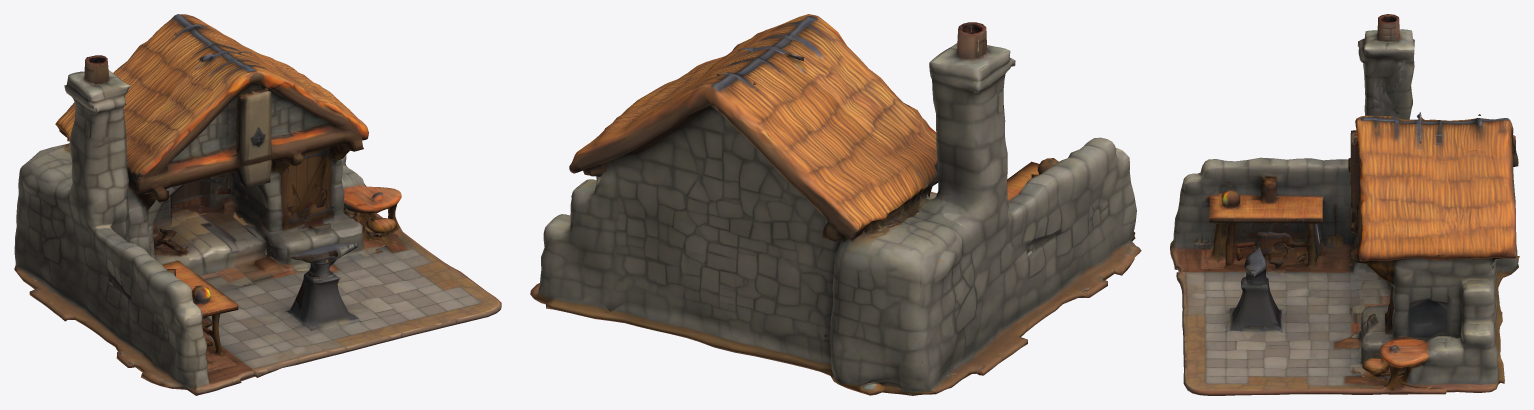
The model's file is forge.glb.
The picture shows the model from 3 angles, left to right: view 1: azimuth 30°, elevation 25°; view 2: azimuth 150°, elevation 25°; view 3: azimuth 270°, elevation 25°; orthographic projection. The views are drawn at different scales.
Size of the model in its own units: 1.95 by 1.33 by 1.78.
Materials: 1 (1 with a texture image).
